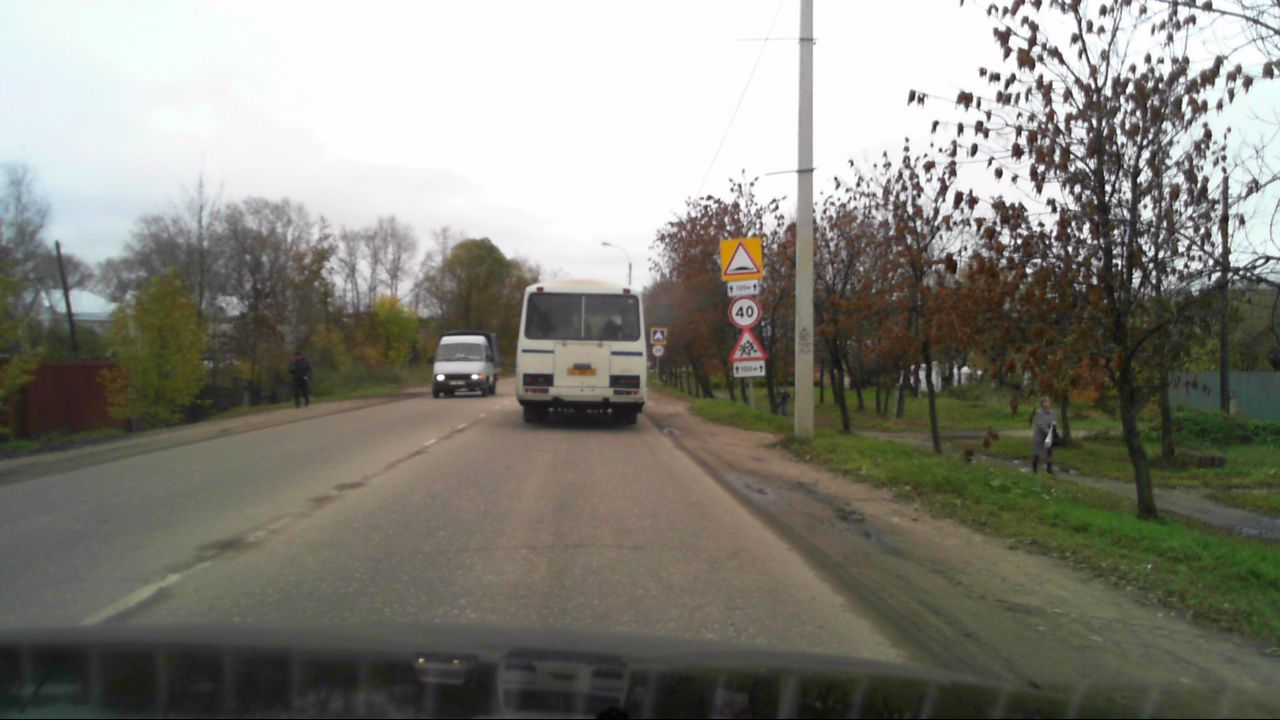speed_warning_40: (728, 294, 762, 329)
